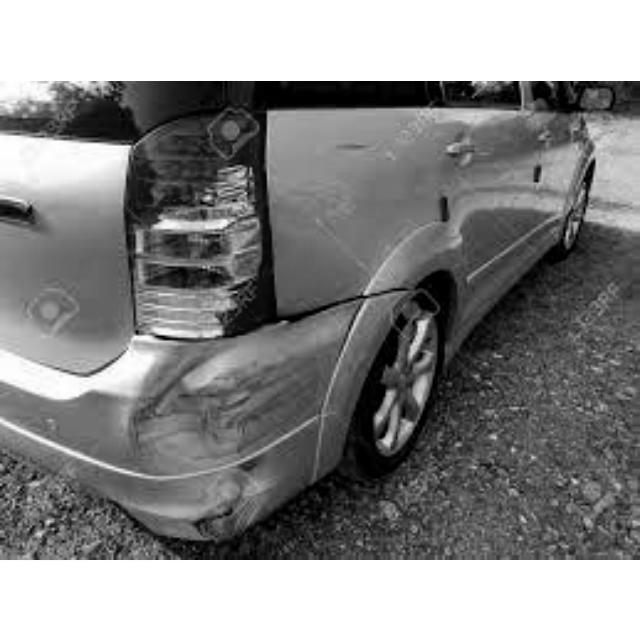Taillight-Damage: (122, 106, 277, 335)
rear-bumper-dent: (5, 316, 407, 535)
